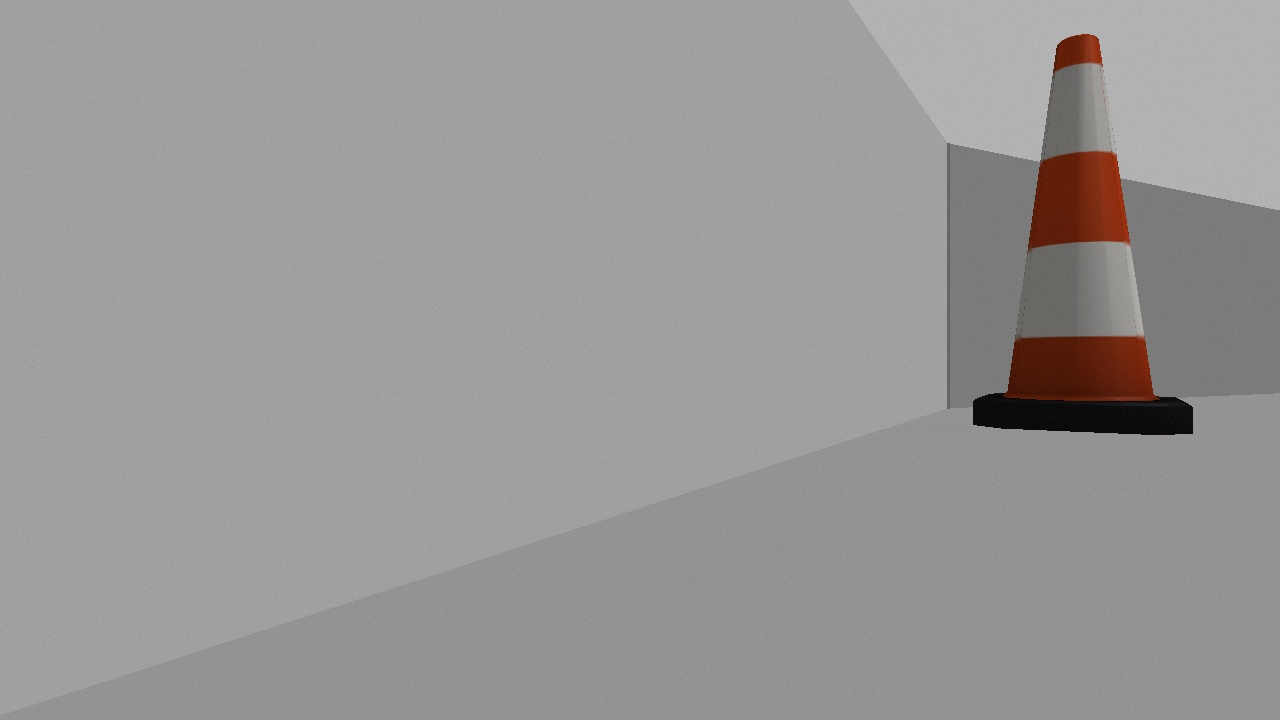barricade: (950, 24, 1221, 455)
